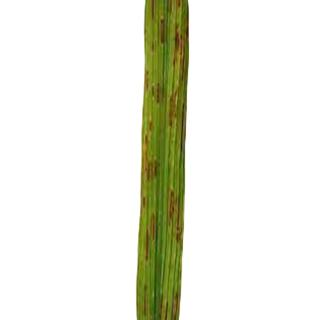bercak-Cokelat: (174, 20, 198, 77), (164, 182, 184, 249), (169, 78, 187, 136), (140, 214, 158, 268), (142, 148, 163, 186), (151, 81, 168, 106), (156, 16, 168, 50), (141, 69, 152, 91), (146, 115, 157, 134)
